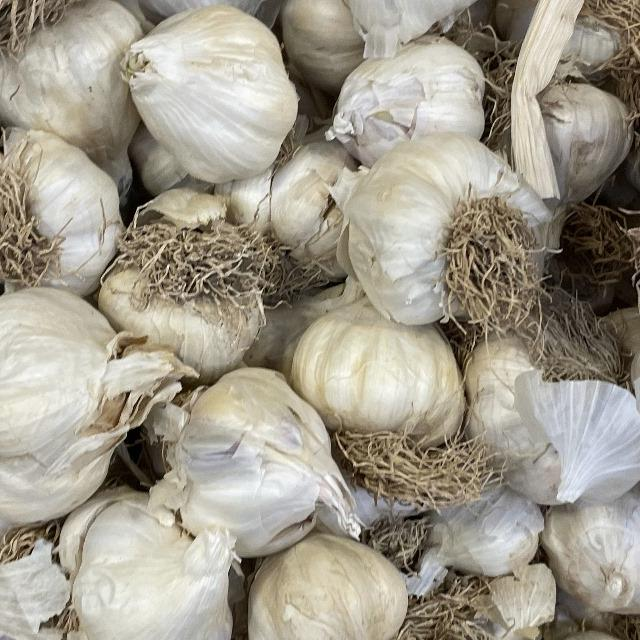garlic: (318, 120, 575, 355), (97, 0, 320, 197), (0, 267, 187, 465), (347, 575, 580, 640)
